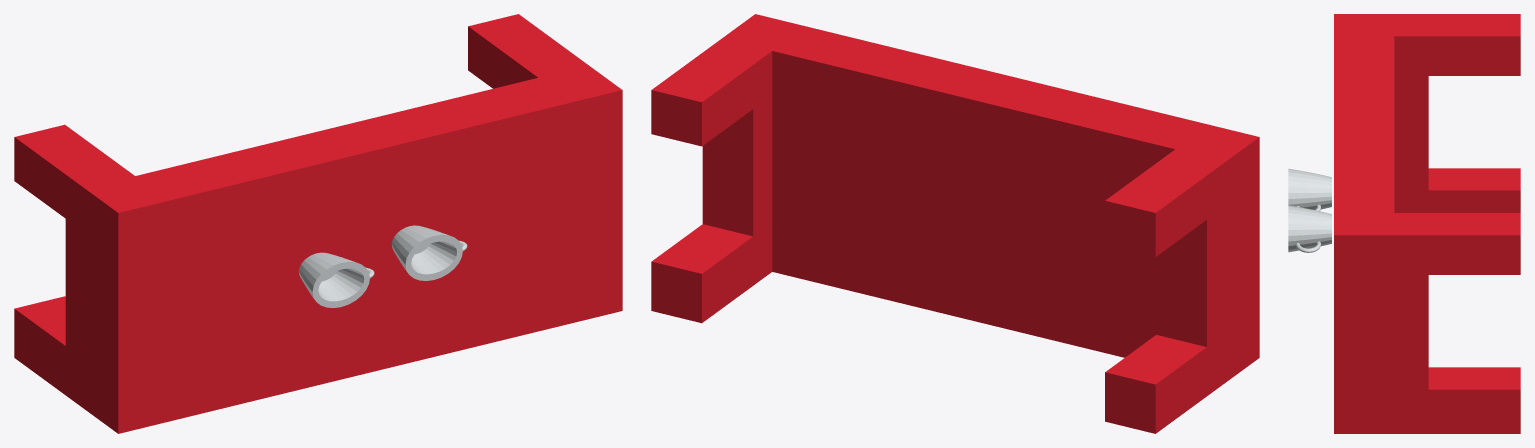
Rendered from tinker.obj.
The picture shows the model from 3 angles, left to right: view 1: azimuth 30°, elevation 25°; view 2: azimuth 150°, elevation 25°; view 3: azimuth 270°, elevation 25°; orthographic projection. The views are drawn at different scales.
Parts seen in each view (by area): view 1: group_0_15277357, group_0_14541540; view 2: group_0_15277357; view 3: group_0_15277357, group_0_14541540.
Part boxes in pixels (x1,y1,x2,y2): group_0_15277357: [14, 14, 622, 433]; group_0_14541540: [298, 225, 467, 307]; group_0_15277357: [651, 14, 1259, 433]; group_0_15277357: [1334, 14, 1520, 433]; group_0_14541540: [1288, 168, 1331, 252].
Size of the model in its own units: 119 by 50 by 53.
